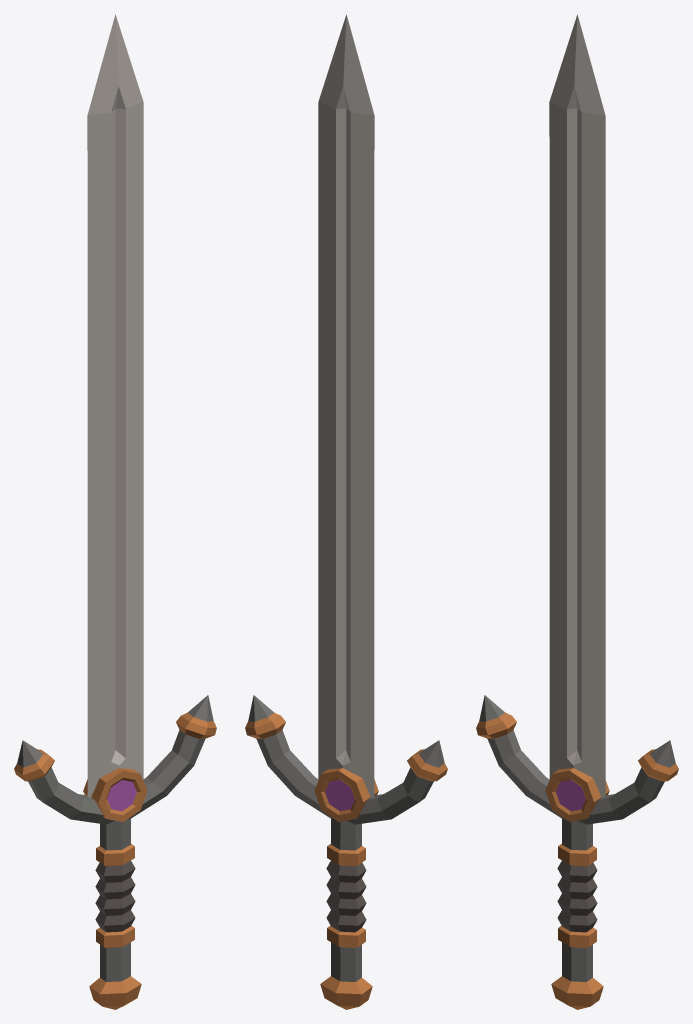
File: SM_pwe_fantasy_sword_07.fbx
3 views of the same model, side by side, from view 1: azimuth 30°, elevation 25°; view 2: azimuth 150°, elevation 25°; view 3: azimuth 330°, elevation 25° (orthographic).
Visible parts, largest first — view 1: SM_pwe_fantasy_sword_07; view 2: SM_pwe_fantasy_sword_07; view 3: SM_pwe_fantasy_sword_07.
Boxes of the visible parts, box(x1,y1,x2,y2) form: SM_pwe_fantasy_sword_07: box(14, 14, 216, 1009); SM_pwe_fantasy_sword_07: box(245, 14, 447, 1009); SM_pwe_fantasy_sword_07: box(476, 14, 678, 1009).
Size of the model in its own units: 24.5 by 120 by 4.69.
